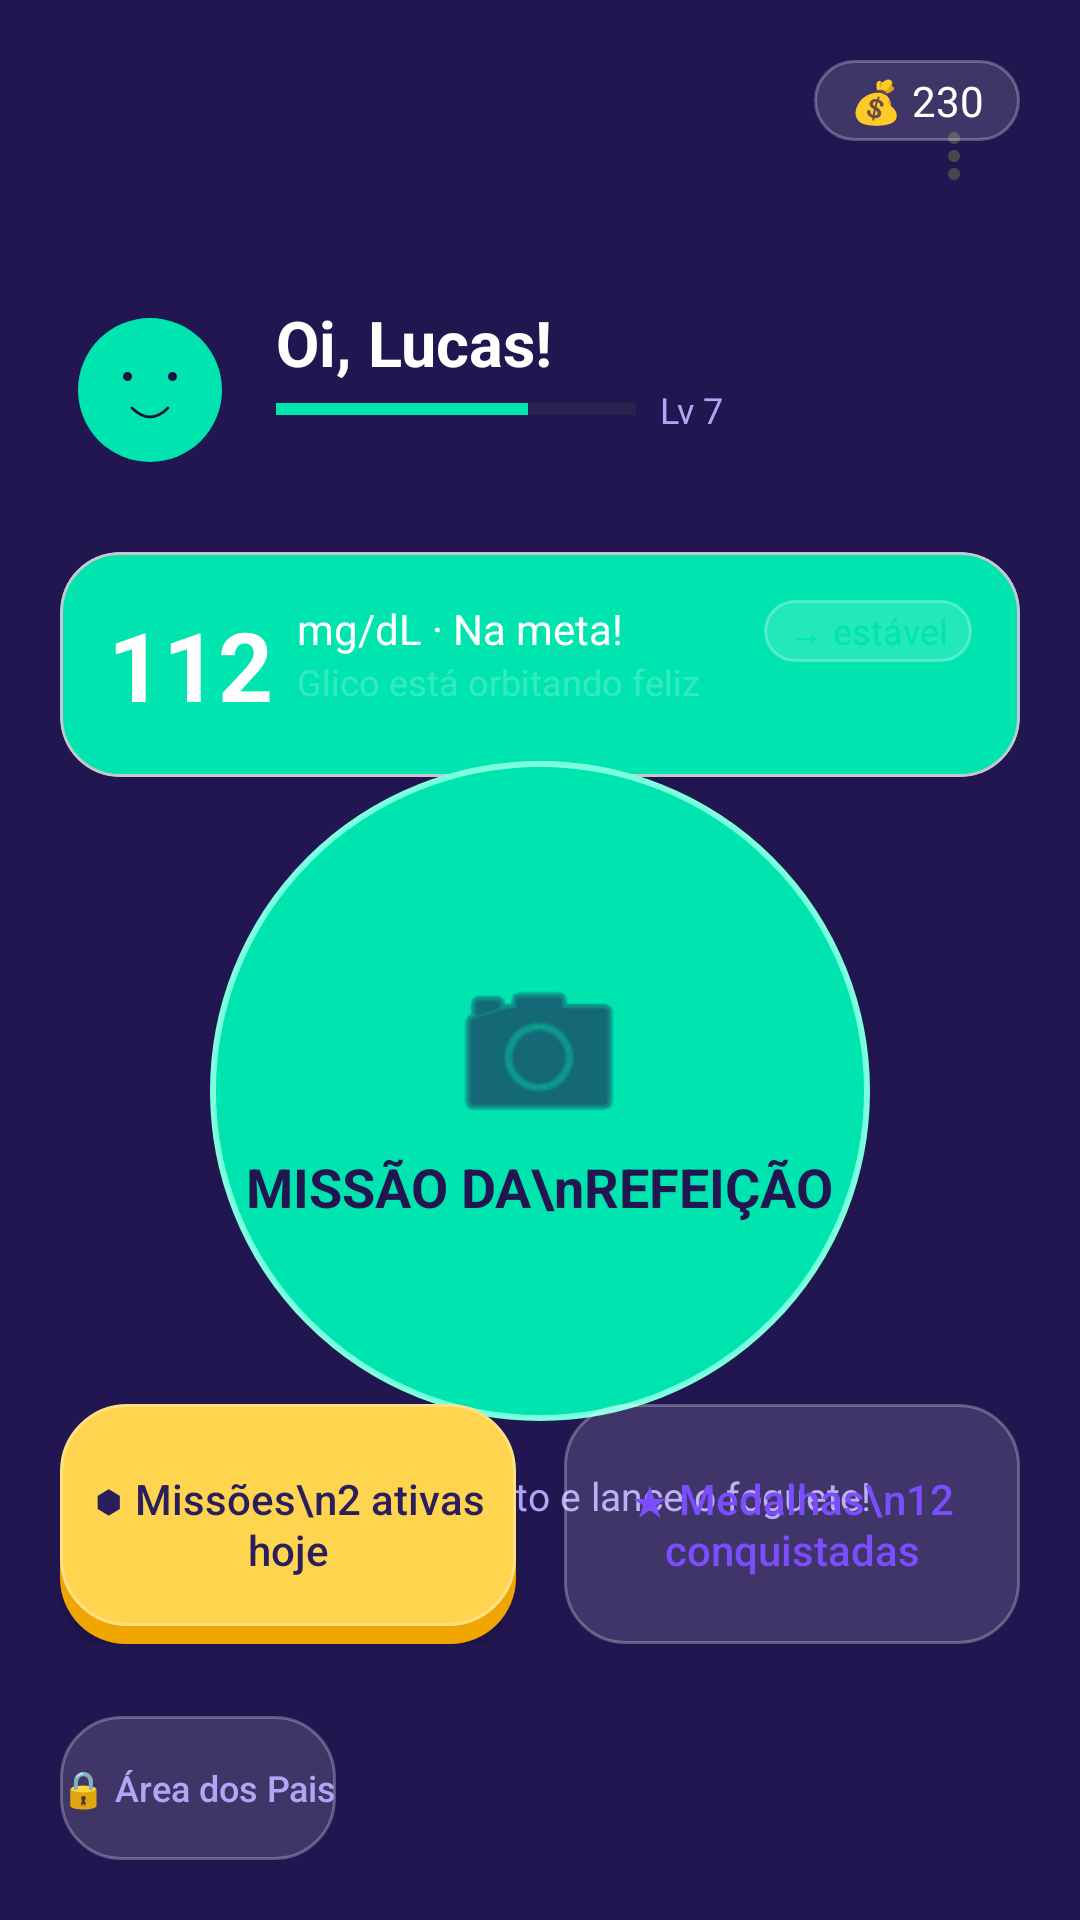

Icon bounding boxes for this 1080px×1920px phone screenshot, format [x1=x1, y1=y1, x2=x2, y2=y2]:
camera: [x1=465, y1=992, x2=613, y2=1110]
